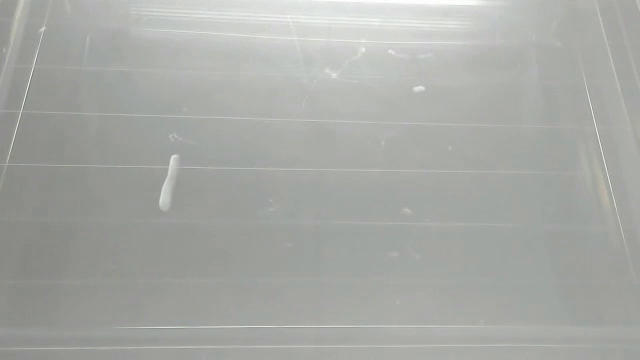alpha: (156, 153, 184, 213), (406, 81, 428, 96)
